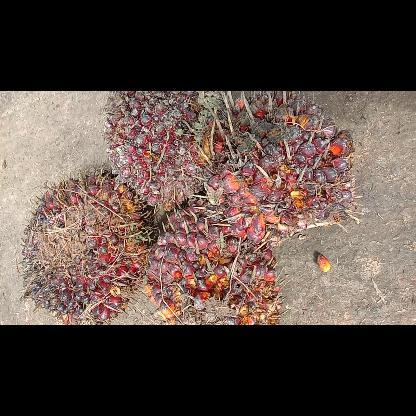Kurang masak: (18, 168, 156, 324), (100, 91, 228, 211)
TBS masak: (186, 91, 366, 249), (146, 196, 292, 324)
